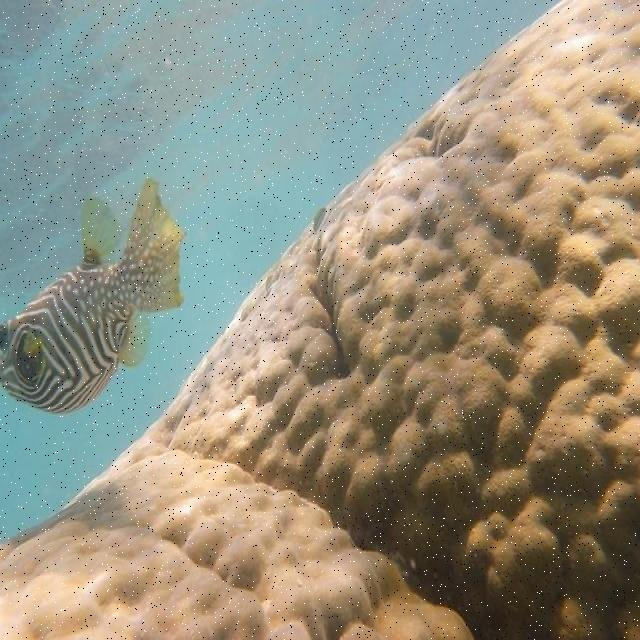fish: (0, 177, 186, 414)
reefs: (0, 0, 639, 638)
